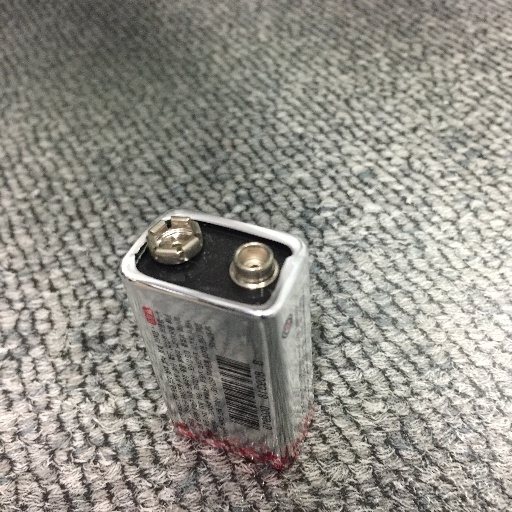Battery_3: (96, 196, 340, 479)
